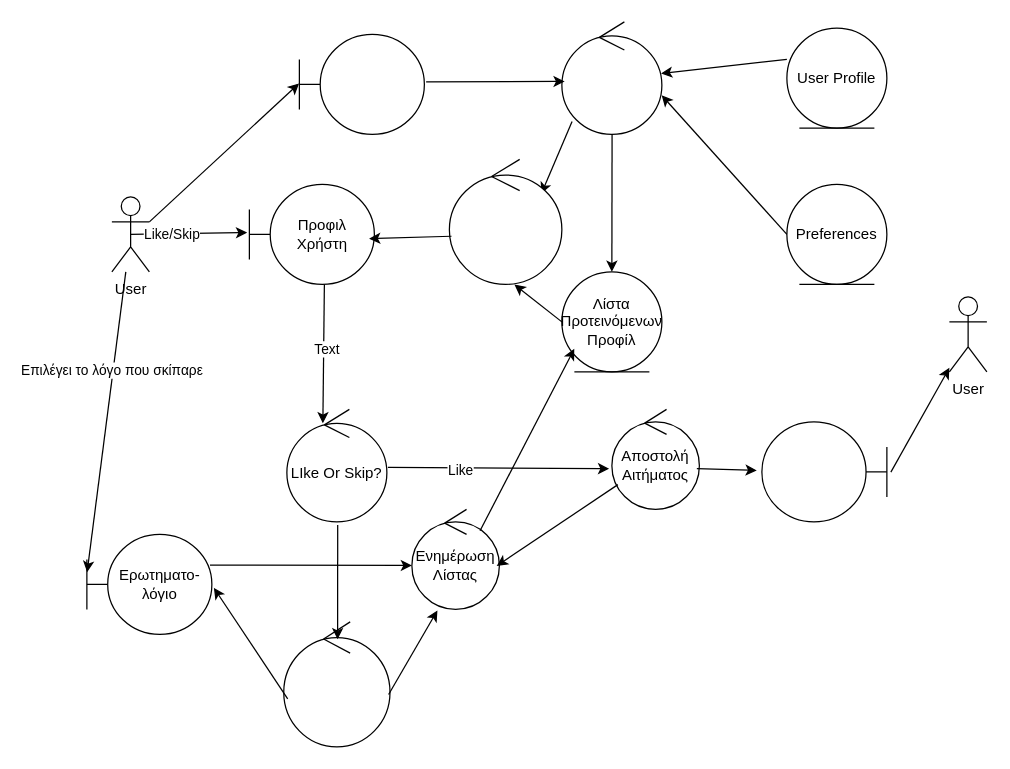
This 1010x769 diagram has some shape labels left out. The shapes that lost their labels are listed below. From the top down, each one's centre as x and y in pixels, then its label:
(361,83): "Aναζήτηση Συγκατοίκων"
(611,77): Φόρτωση Λίστας Προτεινόμενων Προφίλ
(505,221): Εμφάνίση Ενός Προφίλ Από τη Λίστα
(824,471): Σελίδα Αιτημάτων Χρήστη
(336,684): Eμφάνιση Ερωτημα-τολογίου
